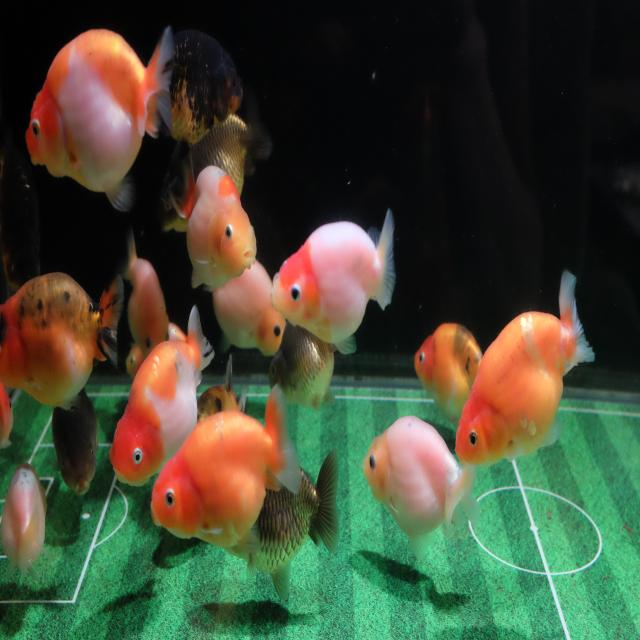Tilapia: (454, 268, 597, 474), (25, 26, 176, 213), (148, 384, 302, 557), (108, 304, 216, 489), (269, 206, 397, 356), (362, 410, 483, 566), (224, 446, 342, 604), (0, 271, 126, 413), (156, 98, 273, 233), (172, 155, 258, 288), (160, 22, 245, 148), (212, 253, 286, 361), (414, 320, 484, 430), (122, 225, 171, 360), (50, 373, 100, 504), (267, 322, 339, 412), (0, 460, 50, 588), (0, 376, 14, 456)
